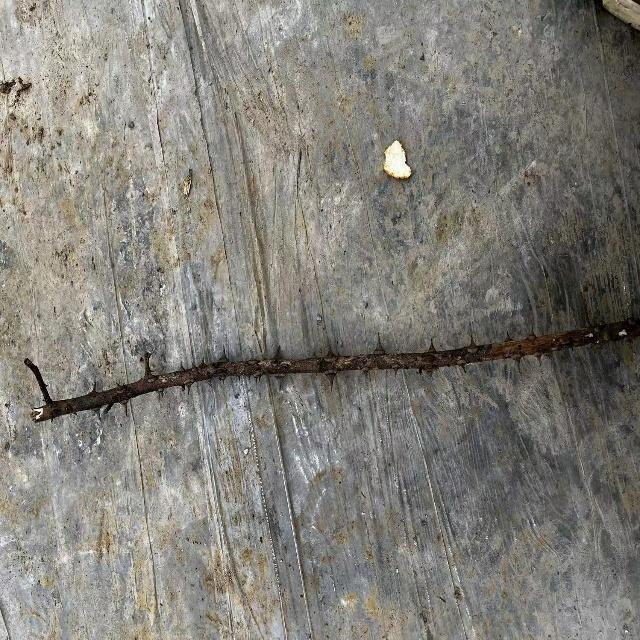branch: (32, 321, 640, 423)
